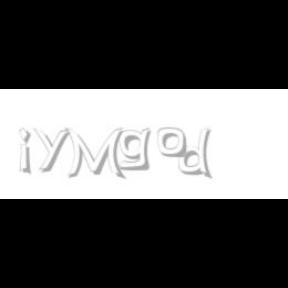M: (64, 128, 124, 180)
d: (179, 128, 216, 180)
g: (118, 128, 154, 171)
i: (19, 128, 35, 176)
o: (158, 128, 186, 158)
y: (33, 128, 73, 172)
